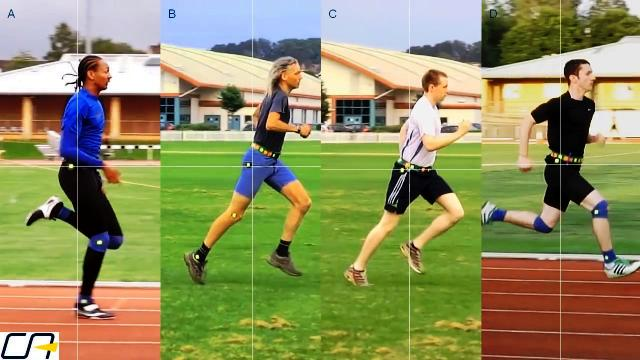berlari: (484, 58, 640, 290), (182, 57, 318, 291), (338, 63, 469, 299), (34, 57, 140, 331)
